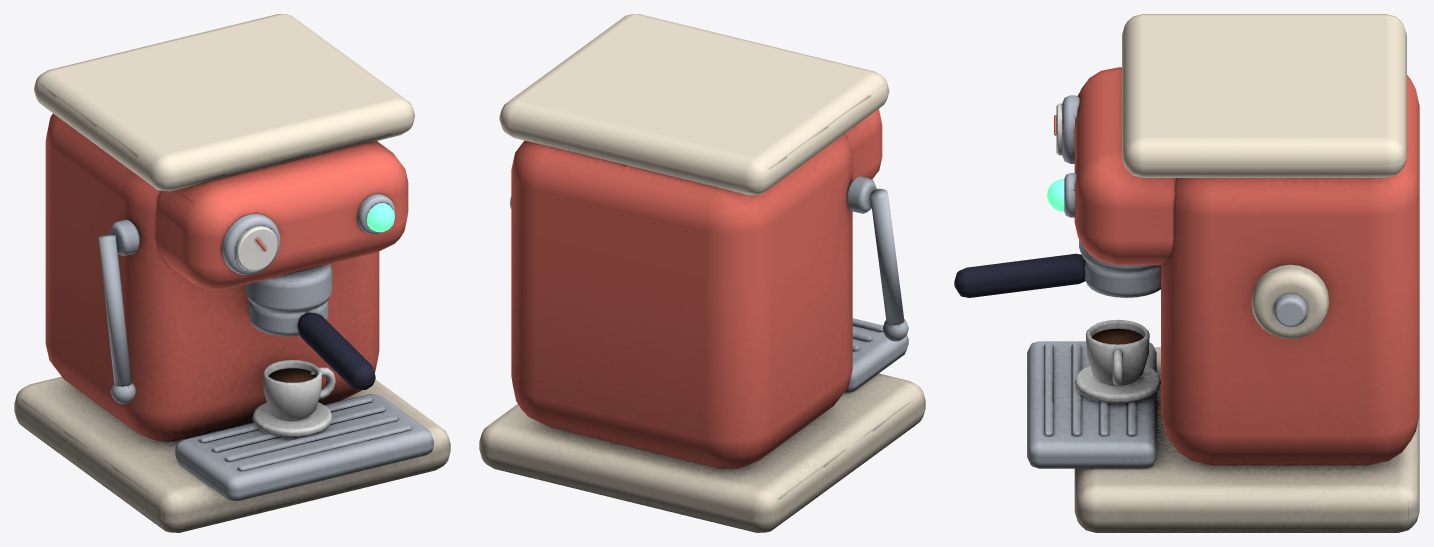
Rendered from coffee_machine.glb.
3 renders of one model, left to right at view 1: azimuth 30°, elevation 25°; view 2: azimuth 150°, elevation 25°; view 3: azimuth 270°, elevation 25°, orthographic. The views are drawn at different scales.
Visible parts, largest first — view 1: coffee_machine; view 2: coffee_machine; view 3: coffee_machine.
Boxes of the visible parts, x1,y1,x2,y2 form: coffee_machine: [14, 14, 450, 532]; coffee_machine: [479, 14, 925, 532]; coffee_machine: [954, 14, 1419, 532].
Bounding box in the file's own units: 0.466 × 0.495 × 0.5395.
Materials: 8 (7 with a texture image).
